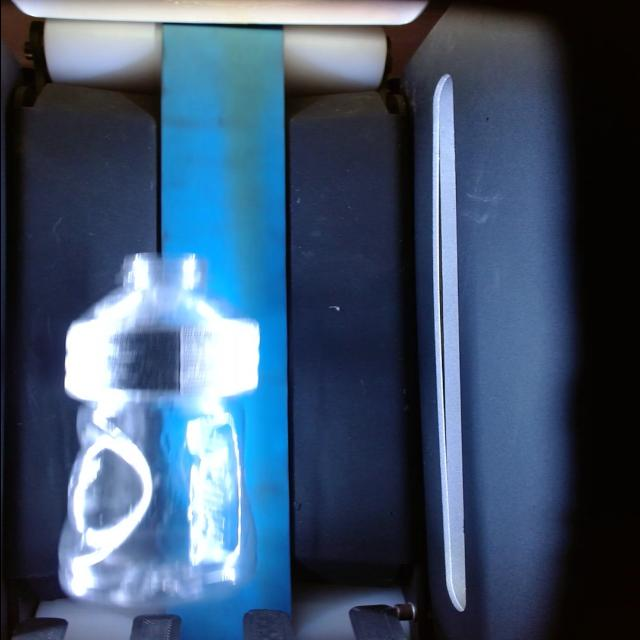bottom: (54, 400, 267, 611)
label: (60, 319, 276, 399), (83, 249, 249, 318)
